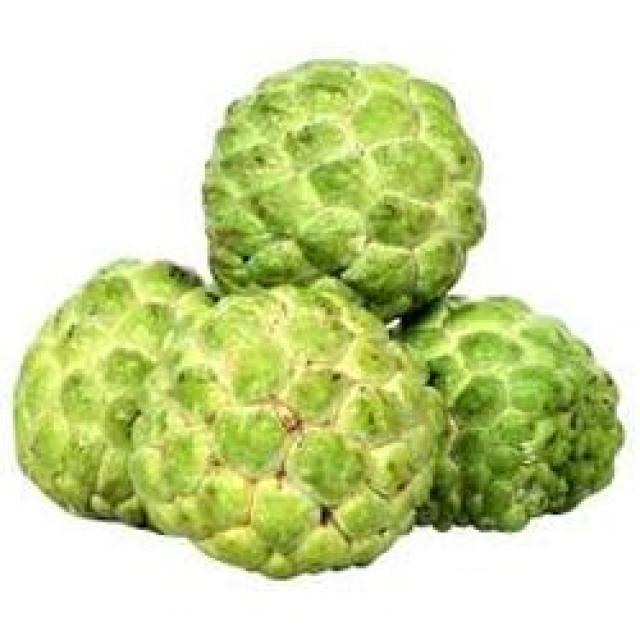apple: (131, 271, 448, 576), (205, 44, 489, 320), (399, 297, 630, 553)
